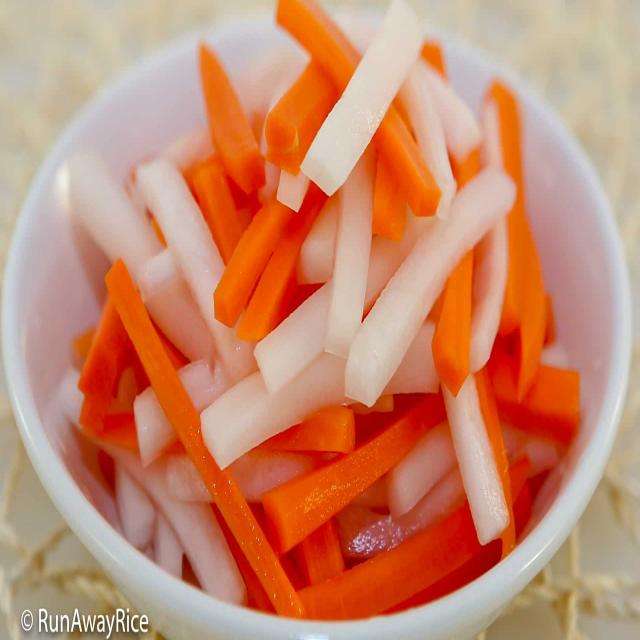do chua: (74, 0, 579, 619)
